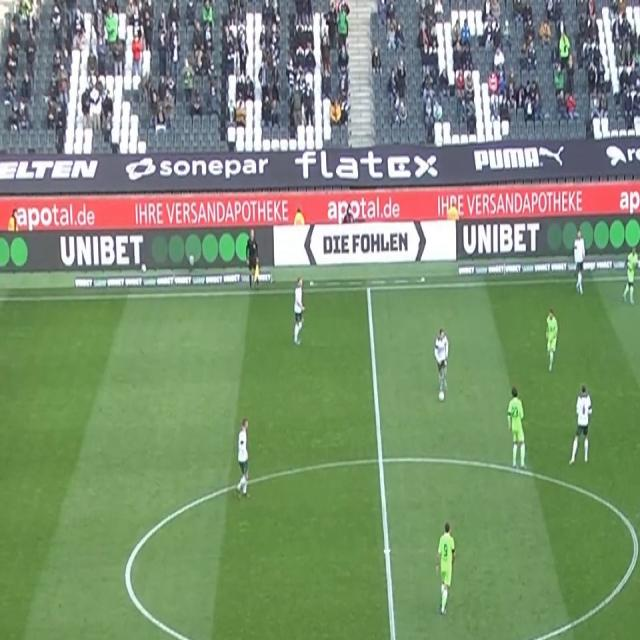ball: (437, 389, 446, 403)
